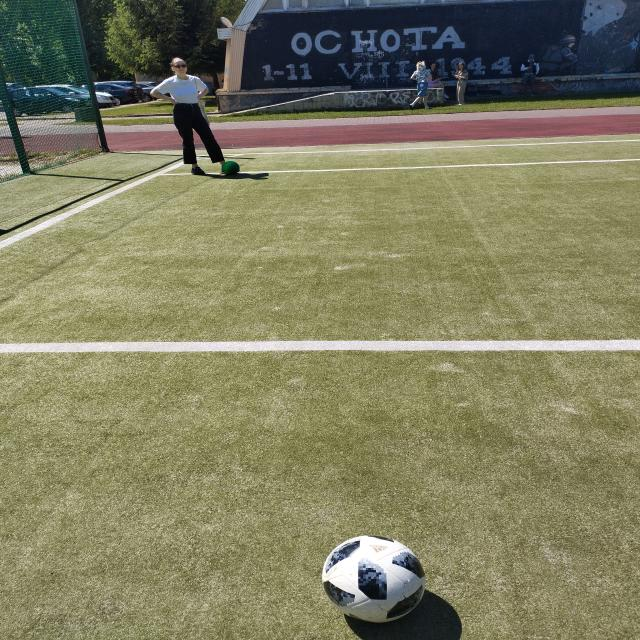nozna: (322, 536, 426, 624)
zielona: (222, 161, 240, 174)
